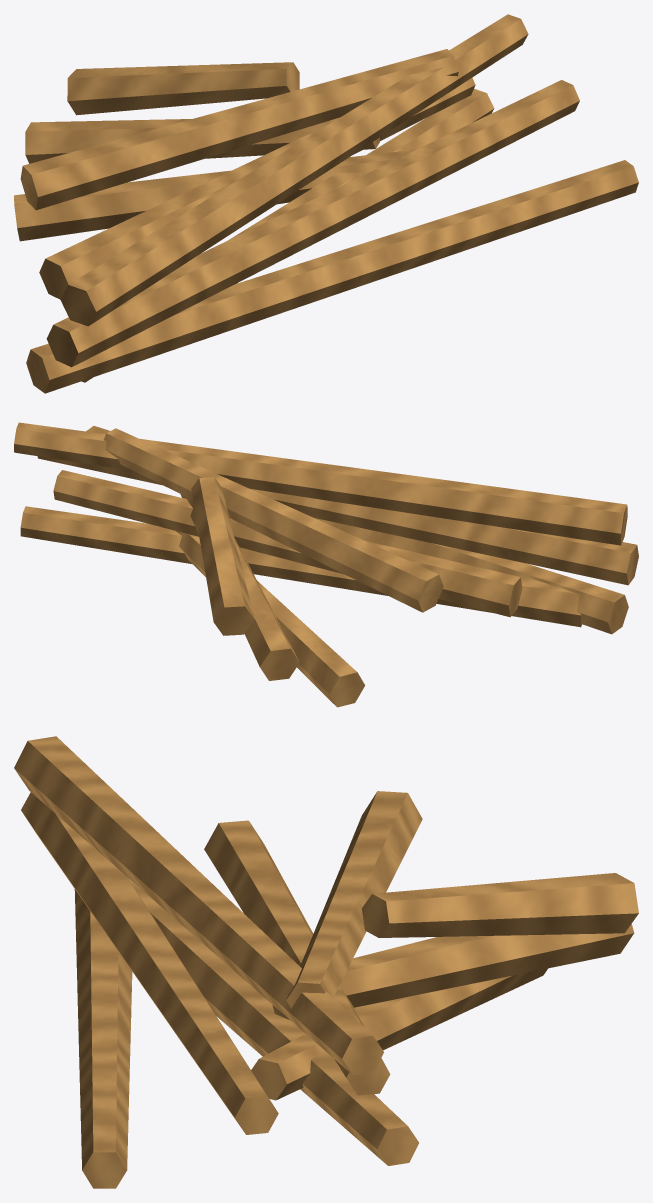
The model's file is kindling_bundle.glb.
3 views of the same model, one above another, from view 1: azimuth 30°, elevation 25°; view 2: azimuth 150°, elevation 25°; view 3: azimuth 270°, elevation 25° (orthographic). The views are drawn at different scales.
Parts seen in each view (by area): view 1: KindlingBundle; view 2: KindlingBundle; view 3: KindlingBundle.
Part boxes in pixels (x1,y1,x2,y2): KindlingBundle: (14, 14, 638, 393); KindlingBundle: (14, 422, 638, 707); KindlingBundle: (14, 736, 638, 1188).
Size of the model in its own units: 0.2209 by 0.0572 by 0.1526.
Materials: 1 (1 with a texture image).
